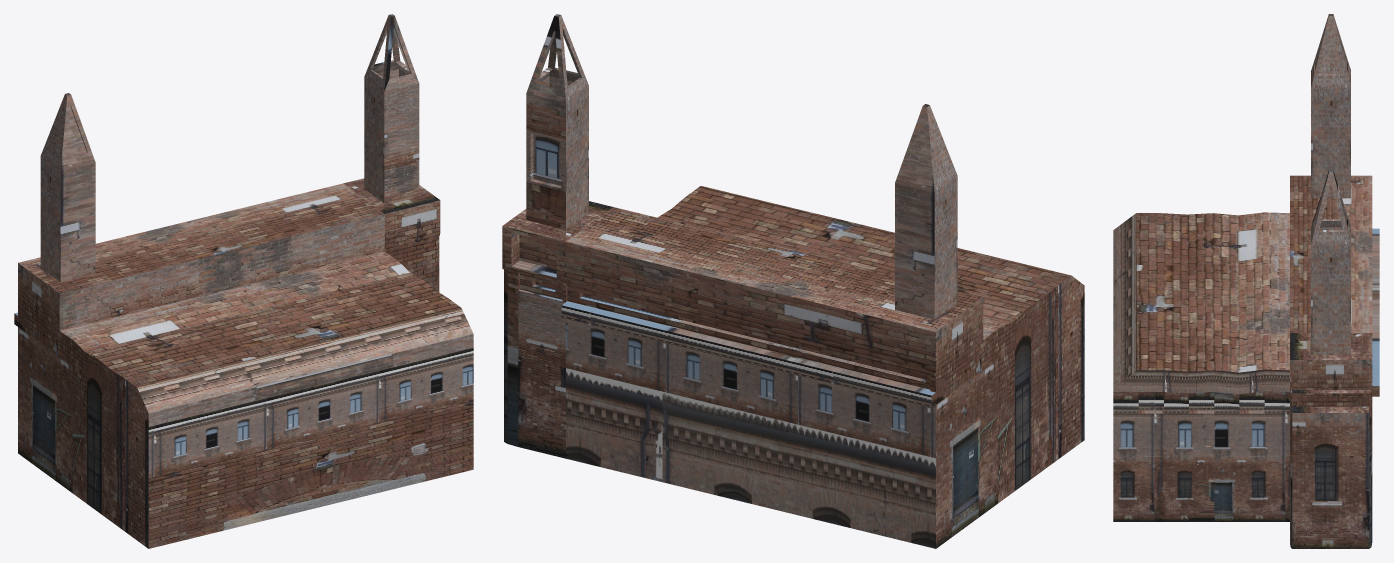
The model's file is BuildingCity_01.fbx.
3 views of the same model, side by side, from view 1: azimuth 30°, elevation 25°; view 2: azimuth 150°, elevation 25°; view 3: azimuth 270°, elevation 25° (orthographic). The views are drawn at different scales.
Visible parts, largest first — view 1: Cube.004; view 2: Cube.004; view 3: Cube.004.
Boxes of the visible parts, box(x1,y1,x2,y2) form: Cube.004: box(14, 14, 473, 548); Cube.004: box(502, 14, 1084, 548); Cube.004: box(1113, 14, 1379, 548).
Bounding box in the file's own units: 3317 × 3038 × 2014.
